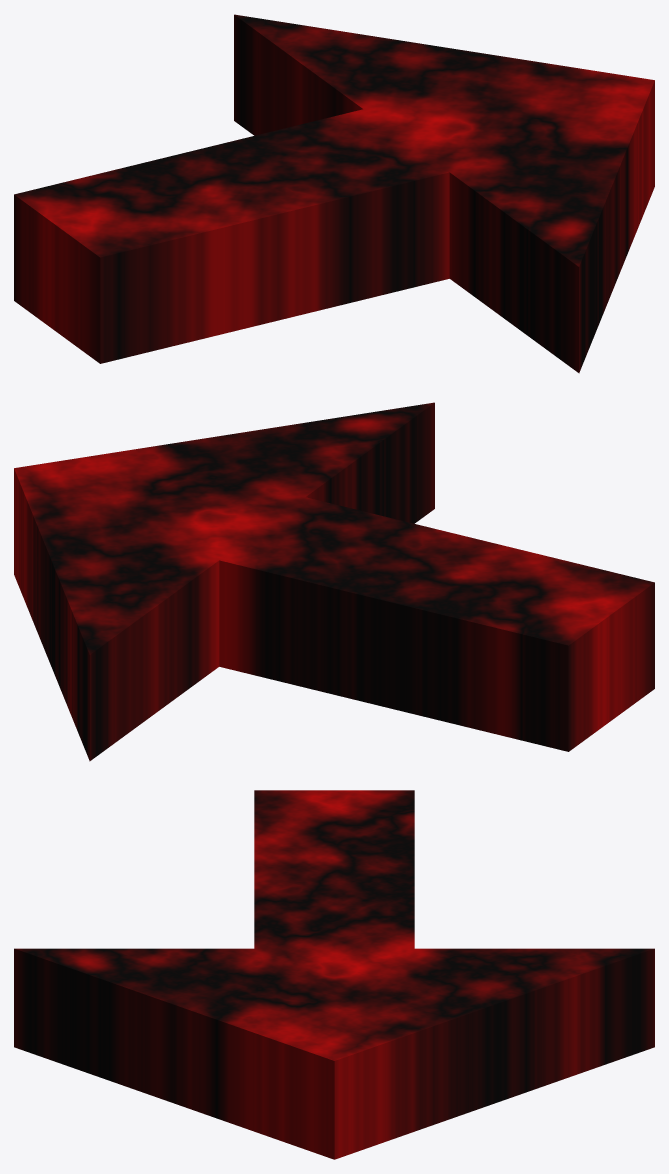
3 renders of one model, top to bottom at view 1: azimuth 30°, elevation 25°; view 2: azimuth 150°, elevation 25°; view 3: azimuth 270°, elevation 25°, orthographic. The views are drawn at different scales.
Parts seen in each view (by area): view 1: Model.003; view 2: Model.003; view 3: Model.003.
Boxes of the visible parts, x1,y1,x2,y2 form: Model.003: (14,14,654,373); Model.003: (14,402,654,761); Model.003: (14,790,654,1159).
Size of the model in its own units: 1 by 0.17 by 1.
